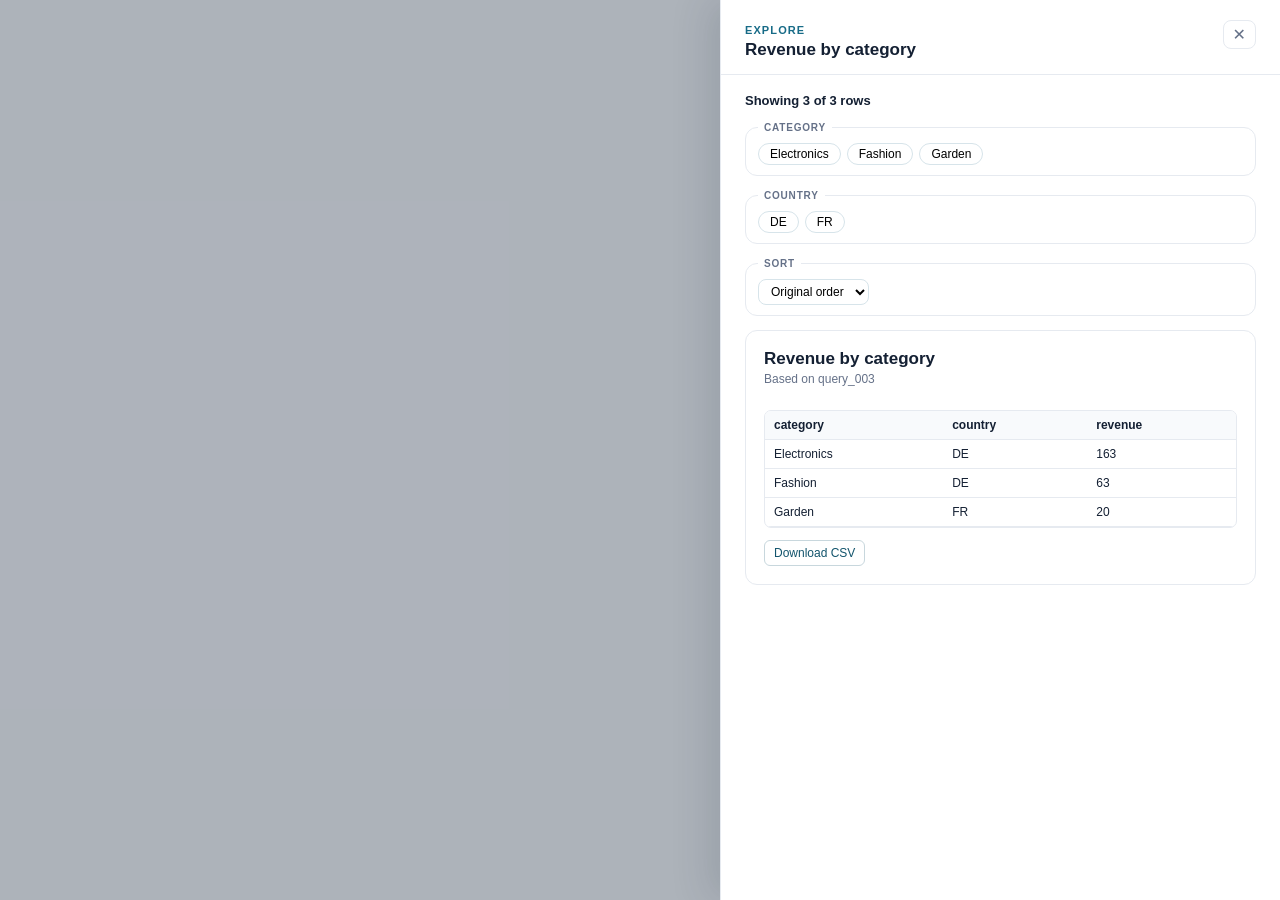
Test: DisplayPanel › restores the original view on reset
Click the button "FR" at (825, 222), box [805,211,845,233]
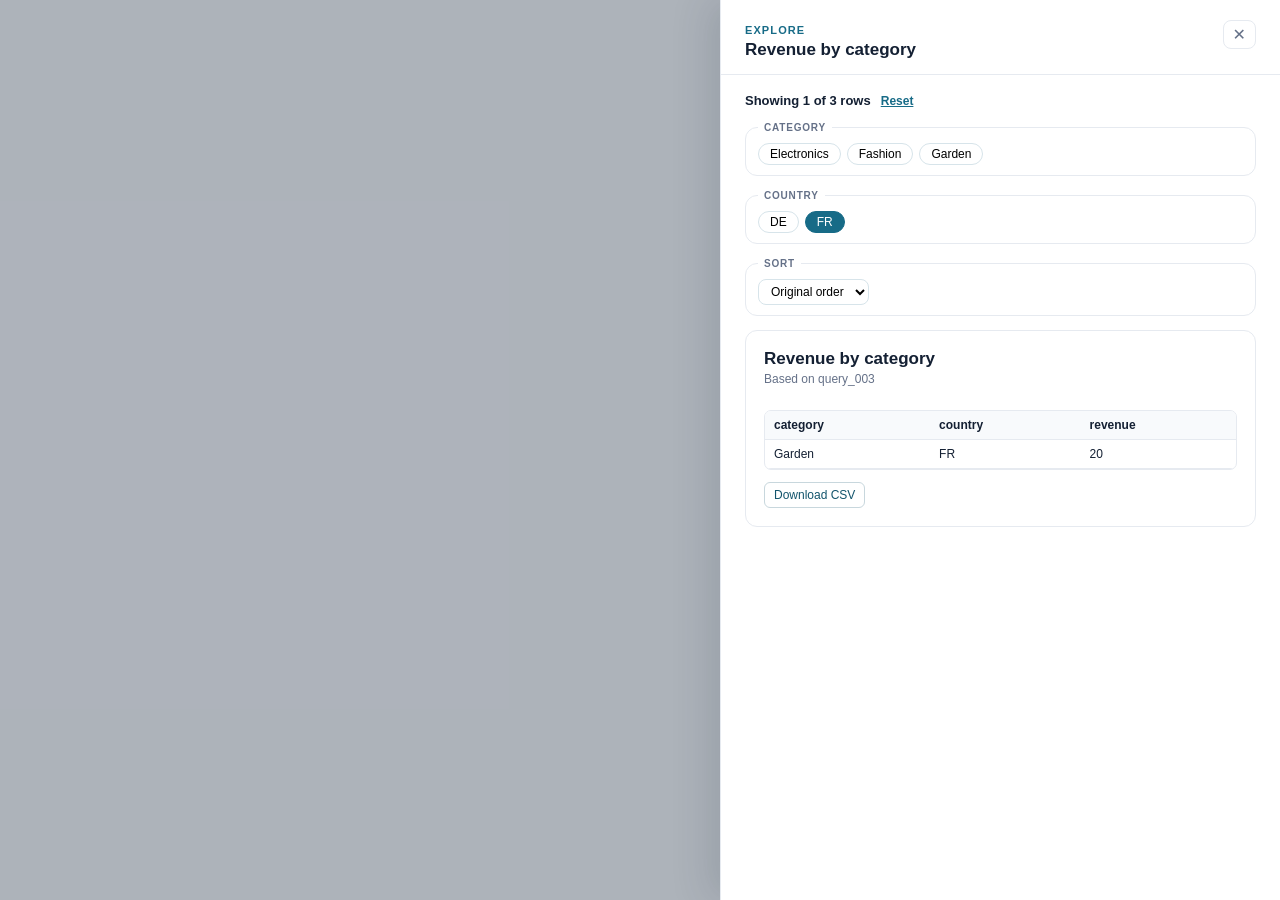
Click the button "Reset" at (897, 100), box [881,94,913,108]
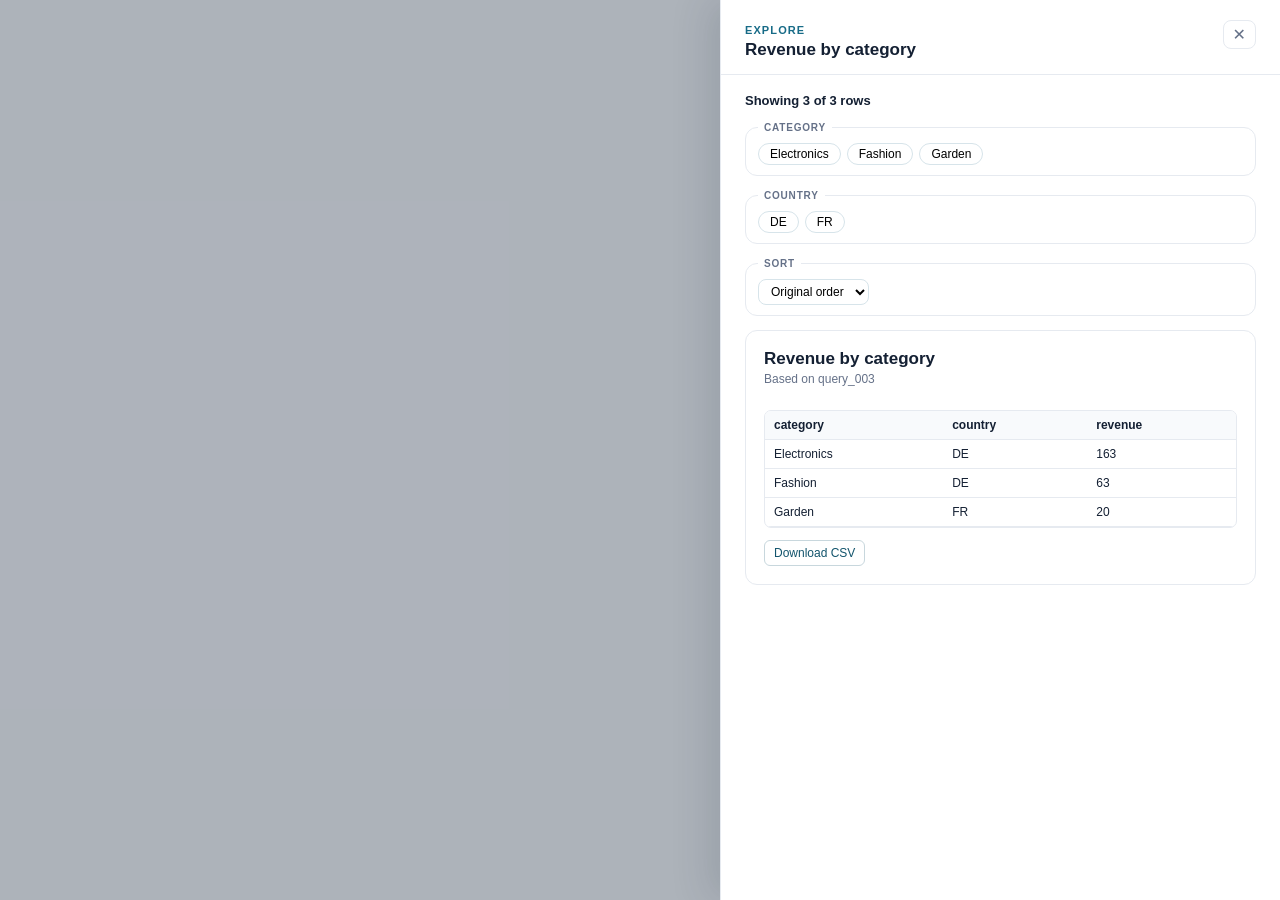
Now the text "Showing 3 of 3 rows" is shown, box [745,93,871,108]
